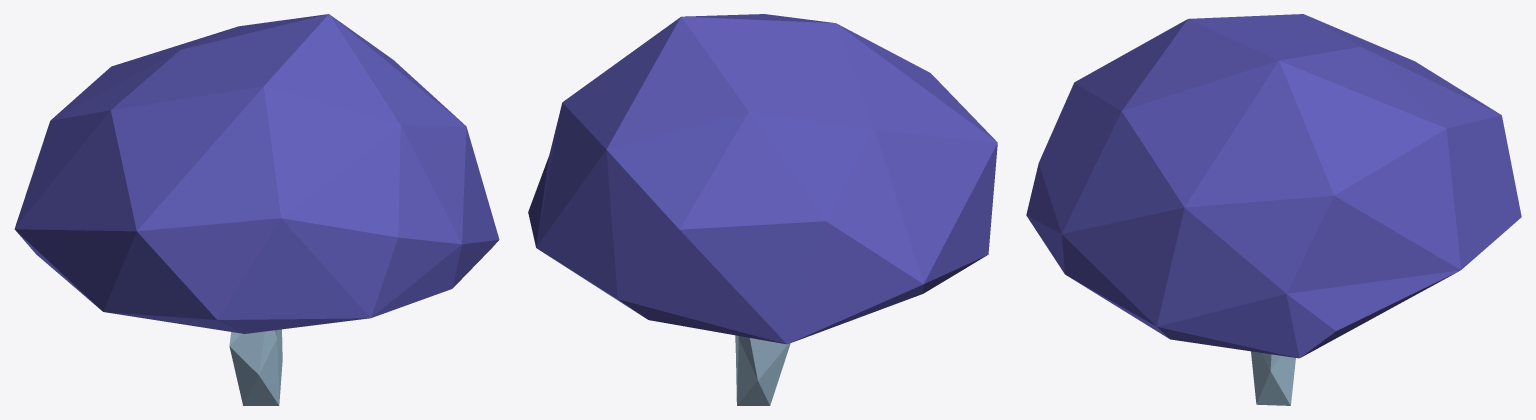
File: mushroomlp2.fbx
3 renders of one model, left to right at view 1: azimuth 30°, elevation 25°; view 2: azimuth 150°, elevation 25°; view 3: azimuth 270°, elevation 25°, orthographic.
Parts seen in each view (by area): view 1: mushroom; view 2: mushroom; view 3: mushroom.
Part boxes in pixels (left/top/right/bottom): mushroom: left=14, top=14, right=499, bottom=405; mushroom: left=528, top=14, right=997, bottom=405; mushroom: left=1026, top=14, right=1521, bottom=405.
Bounding box in the file's own units: 1932 × 1660 × 1984.
